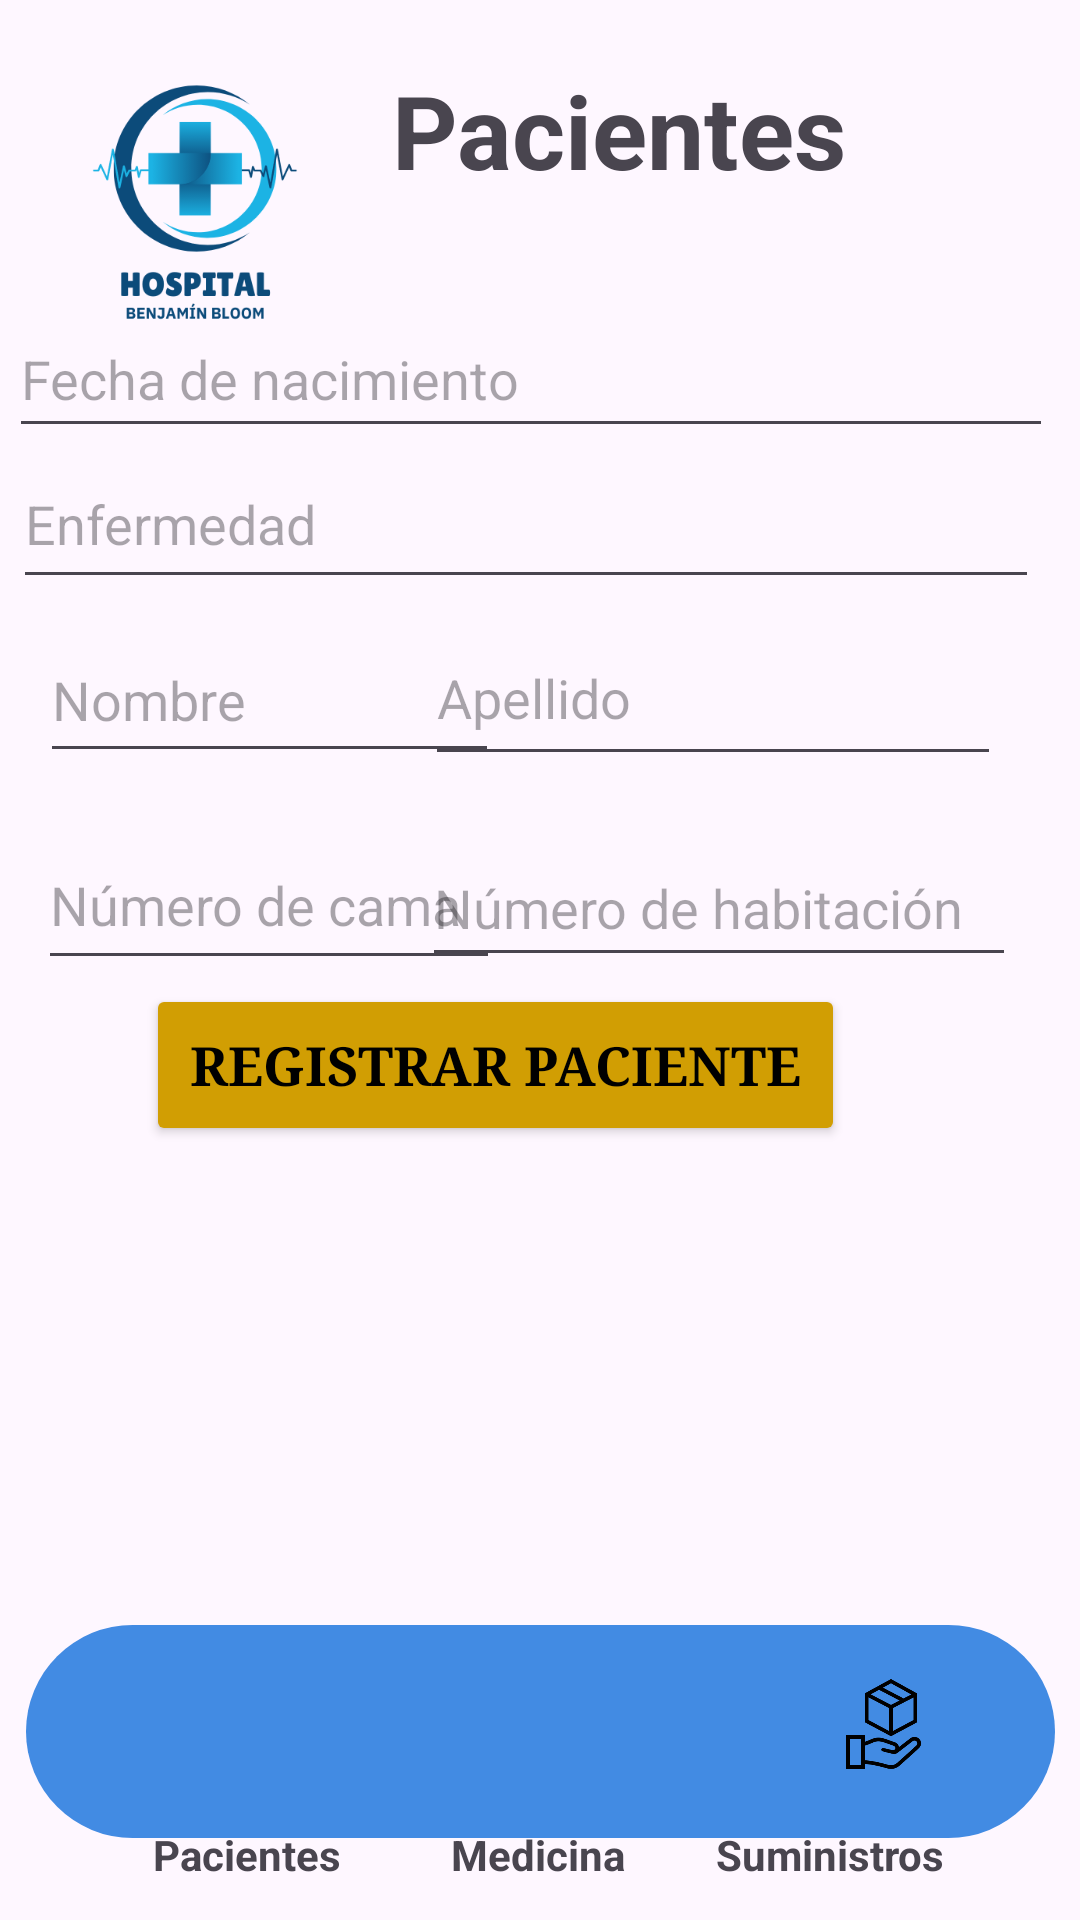

Named icons in this screenshot (1080px x 1920px) and their centers, [x,y]:
supply: [883,1724]
